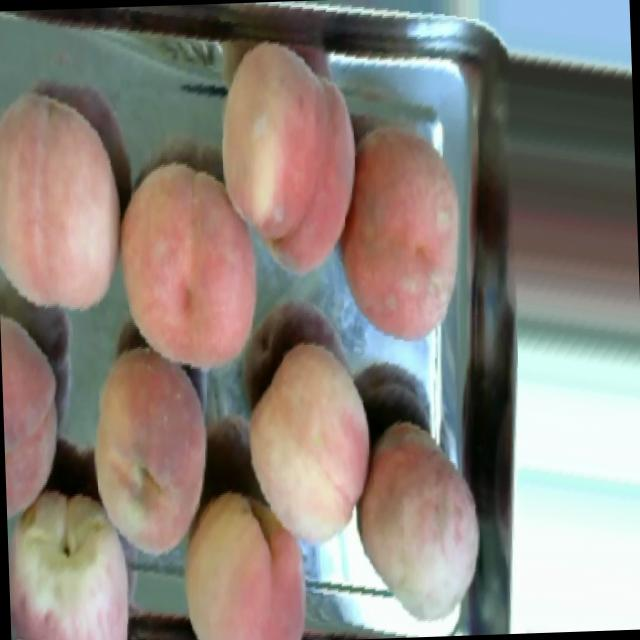Fruit: (188, 26, 378, 288), (115, 135, 286, 394), (0, 66, 154, 335), (71, 328, 231, 574), (328, 114, 482, 353), (227, 324, 381, 554), (340, 408, 482, 637), (157, 477, 331, 640), (5, 475, 159, 640), (0, 297, 82, 544)
